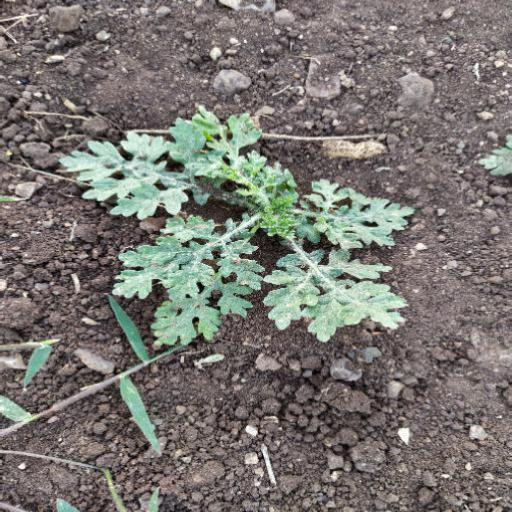weed: (64, 115, 414, 346)
